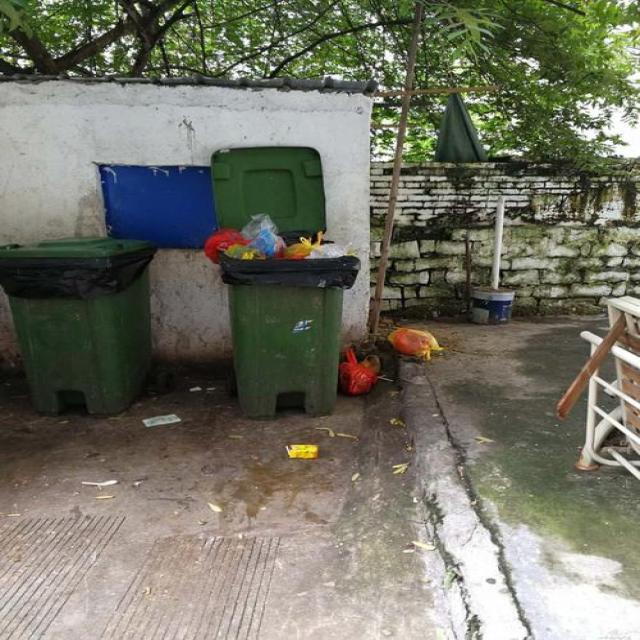garbage: (339, 324, 443, 394), (138, 413, 182, 428), (284, 444, 319, 459)
garbage_bin: (0, 236, 157, 414)
overflow: (201, 212, 358, 417)
